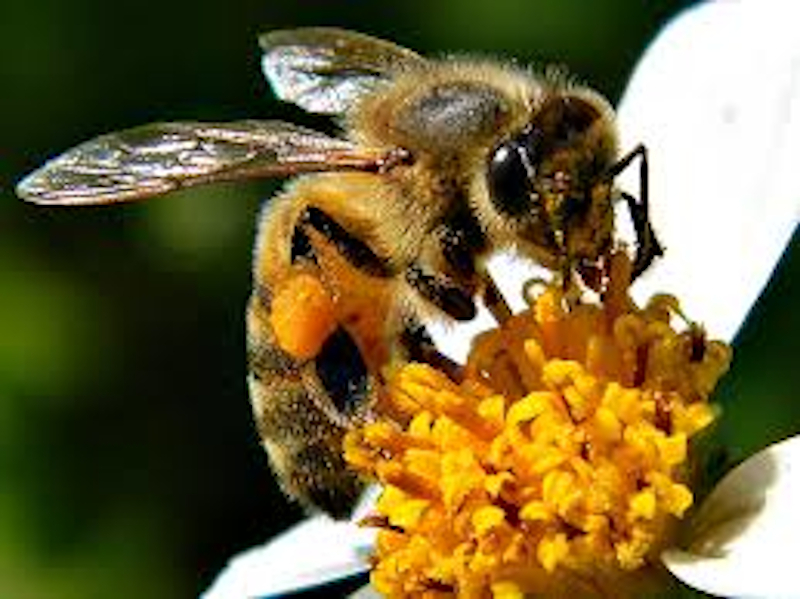abeja: (13, 17, 679, 539)
